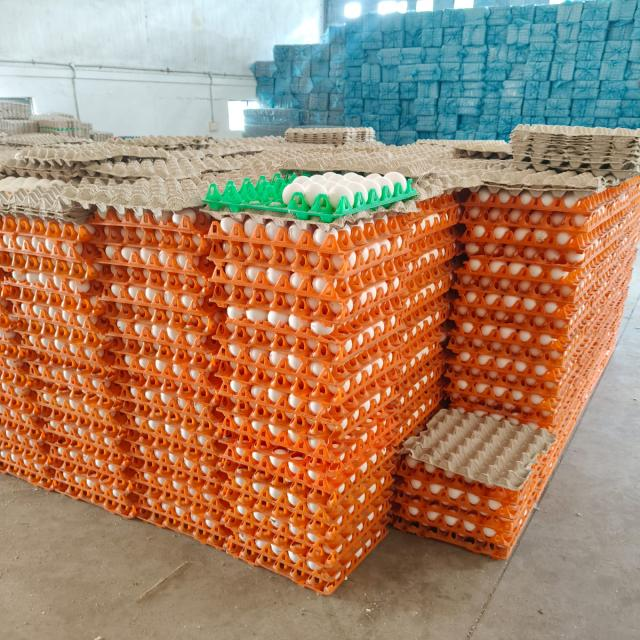egg_tray: (394, 362, 604, 558), (450, 234, 636, 422), (4, 221, 122, 503), (221, 240, 454, 372), (218, 326, 445, 460), (211, 211, 457, 332), (221, 416, 395, 586), (219, 272, 450, 395), (447, 286, 625, 426), (457, 216, 637, 351), (212, 218, 406, 341), (394, 409, 559, 552), (453, 247, 633, 375), (119, 338, 225, 547), (99, 210, 221, 382), (220, 414, 397, 532), (225, 465, 392, 590), (218, 313, 399, 426), (454, 226, 635, 336), (60, 398, 205, 532), (447, 320, 619, 432), (218, 325, 399, 426), (461, 198, 637, 301), (217, 367, 397, 466), (125, 373, 226, 547), (218, 327, 399, 424), (130, 365, 223, 546), (219, 371, 394, 467), (123, 371, 225, 534), (212, 212, 454, 279), (462, 182, 638, 273), (394, 456, 550, 558), (222, 448, 393, 540), (123, 373, 224, 528), (461, 209, 636, 298), (225, 501, 389, 594), (458, 217, 637, 302), (13, 389, 134, 514), (0, 218, 105, 358), (221, 408, 402, 488), (221, 412, 397, 494), (462, 184, 639, 265), (463, 185, 637, 267), (225, 499, 389, 582), (227, 266, 403, 343), (462, 194, 639, 268), (38, 373, 134, 506), (96, 210, 212, 319), (541, 312, 621, 466), (461, 179, 639, 248), (220, 314, 384, 388), (458, 232, 627, 302), (222, 403, 399, 469), (453, 265, 618, 335), (225, 523, 387, 594), (97, 214, 206, 318), (116, 339, 220, 446), (204, 172, 417, 223), (103, 256, 218, 349), (463, 210, 625, 276), (533, 348, 610, 485), (209, 217, 381, 278), (108, 305, 223, 396), (401, 196, 460, 365), (547, 306, 623, 437), (396, 455, 538, 524), (394, 479, 538, 547), (47, 412, 138, 516), (3, 282, 114, 367), (15, 302, 118, 393), (124, 372, 219, 470), (547, 319, 619, 441), (447, 350, 570, 421), (461, 200, 626, 252), (126, 396, 225, 481), (135, 458, 228, 548), (14, 289, 109, 376), (110, 307, 217, 383), (395, 290, 451, 434), (14, 290, 115, 368), (29, 343, 123, 426), (92, 209, 210, 274), (0, 346, 54, 488), (123, 372, 221, 449), (396, 291, 451, 428), (136, 467, 229, 548), (135, 467, 228, 548), (4, 271, 108, 343), (129, 404, 225, 482), (15, 302, 114, 377), (18, 289, 115, 365), (566, 260, 632, 370), (95, 210, 210, 272), (38, 367, 133, 442), (453, 304, 582, 356), (447, 333, 577, 384), (576, 234, 639, 339), (448, 350, 566, 406), (465, 178, 638, 216), (109, 305, 223, 362), (0, 217, 99, 281), (399, 196, 463, 294), (30, 361, 123, 425), (52, 448, 138, 517), (403, 228, 461, 330), (387, 196, 461, 275), (399, 259, 456, 361), (3, 258, 103, 316), (398, 259, 456, 357), (53, 450, 139, 516), (402, 240, 461, 336), (398, 260, 456, 356), (104, 269, 215, 319), (401, 230, 460, 323), (114, 338, 217, 391), (0, 389, 55, 488), (401, 240, 460, 330), (393, 293, 451, 382), (394, 296, 450, 388), (135, 494, 228, 549), (398, 272, 453, 361), (282, 171, 407, 209), (394, 351, 446, 436), (514, 145, 638, 179), (0, 269, 47, 358), (405, 227, 461, 299), (513, 147, 638, 179), (5, 250, 100, 292), (396, 195, 461, 256), (0, 416, 55, 488), (511, 125, 637, 152), (0, 336, 36, 425), (0, 158, 79, 198), (396, 379, 447, 439), (0, 435, 55, 490), (396, 382, 446, 439), (0, 342, 36, 420), (7, 146, 86, 181), (0, 345, 36, 420), (403, 194, 461, 236), (0, 357, 36, 421), (0, 331, 35, 396), (0, 268, 23, 356), (0, 270, 22, 358), (0, 344, 33, 397), (403, 269, 449, 306), (0, 176, 66, 194), (606, 176, 639, 206), (459, 283, 493, 301), (489, 294, 534, 306), (149, 318, 172, 340), (536, 298, 564, 314), (197, 454, 217, 474), (345, 330, 365, 350), (490, 413, 525, 424), (6, 450, 20, 474), (380, 321, 399, 337), (264, 431, 284, 446), (429, 249, 447, 264), (63, 442, 77, 461), (327, 336, 339, 357), (535, 456, 549, 471), (162, 411, 179, 423), (261, 521, 279, 532), (132, 389, 146, 401), (112, 500, 126, 512), (68, 297, 86, 306), (114, 481, 126, 493), (625, 216, 635, 230), (435, 308, 445, 322), (518, 308, 533, 317), (188, 474, 204, 482), (581, 305, 591, 317), (231, 379, 240, 392), (470, 225, 483, 234), (309, 438, 320, 448), (132, 392, 144, 401), (194, 500, 203, 512), (130, 246, 147, 252), (573, 342, 584, 351), (238, 404, 249, 413), (521, 244, 535, 251), (519, 280, 530, 288), (149, 409, 160, 417), (69, 430, 78, 439), (225, 378, 234, 387), (65, 486, 75, 494), (74, 468, 82, 478), (12, 230, 22, 238), (253, 515, 261, 525), (447, 410, 460, 416), (403, 365, 410, 376), (270, 392, 278, 401), (354, 372, 360, 384), (238, 364, 247, 372), (252, 339, 259, 349), (599, 340, 606, 350), (526, 422, 540, 427), (278, 374, 285, 384), (529, 358, 537, 366), (518, 365, 526, 373), (60, 241, 69, 248), (290, 525, 297, 534), (177, 328, 183, 338), (89, 281, 97, 288), (261, 372, 268, 380), (210, 450, 215, 461), (41, 314, 50, 320), (374, 412, 383, 418), (179, 320, 188, 326), (103, 348, 110, 355), (380, 505, 387, 512), (274, 456, 281, 463), (443, 280, 450, 287), (334, 372, 340, 380), (332, 302, 340, 308), (157, 400, 165, 406), (533, 394, 541, 400), (85, 338, 93, 344), (522, 227, 530, 233), (556, 232, 565, 237), (513, 227, 522, 232), (496, 226, 511, 229), (212, 504, 219, 510), (261, 372, 267, 379), (270, 280, 277, 286), (112, 214, 119, 220), (410, 510, 417, 516), (569, 358, 574, 366), (513, 314, 518, 322), (509, 418, 517, 423), (184, 480, 192, 485), (47, 297, 57, 301), (267, 565, 275, 570), (530, 236, 535, 244), (282, 415, 286, 425), (287, 337, 292, 345), (513, 227, 521, 232), (309, 536, 315, 542), (33, 311, 39, 317), (255, 350, 261, 356), (327, 398, 336, 402), (321, 424, 330, 428), (508, 416, 517, 420), (33, 414, 39, 420), (52, 448, 61, 452), (470, 406, 477, 411), (207, 349, 214, 354), (3, 423, 10, 428), (55, 395, 60, 402), (172, 396, 177, 403), (545, 470, 550, 477), (456, 400, 463, 405), (271, 416, 278, 421), (60, 370, 68, 374), (492, 414, 500, 418), (395, 310, 399, 318), (413, 298, 419, 303), (203, 359, 209, 364), (238, 406, 243, 412), (207, 514, 213, 519), (577, 236, 582, 242), (499, 309, 506, 313), (122, 393, 126, 400), (17, 321, 21, 328), (132, 374, 139, 378), (386, 491, 390, 498), (372, 331, 376, 338), (312, 372, 321, 375), (230, 394, 235, 399), (232, 353, 237, 358), (575, 235, 580, 240), (33, 423, 38, 428), (589, 358, 593, 364), (186, 233, 192, 237), (443, 280, 449, 284), (312, 338, 316, 344), (590, 298, 596, 302), (496, 227, 507, 229), (506, 254, 513, 257), (447, 489, 454, 492), (482, 309, 486, 314), (200, 351, 205, 355), (18, 272, 23, 276), (425, 262, 429, 267), (41, 241, 45, 246), (358, 410, 363, 414), (181, 374, 186, 378), (198, 523, 202, 528), (32, 371, 37, 375), (95, 305, 99, 310), (3, 301, 7, 306), (310, 537, 314, 542), (294, 322, 299, 326), (310, 321, 312, 330), (385, 516, 388, 522), (625, 273, 628, 279), (102, 246, 108, 249), (65, 473, 68, 479), (115, 478, 121, 481), (584, 362, 588, 366), (383, 313, 387, 317), (51, 196, 55, 200), (605, 202, 609, 206), (129, 221, 133, 225), (383, 233, 387, 237), (373, 364, 377, 368), (289, 380, 294, 383), (461, 411, 466, 414), (528, 373, 533, 376), (298, 365, 301, 370), (292, 356, 297, 359), (551, 213, 556, 216), (316, 290, 321, 293), (531, 238, 534, 243), (512, 266, 516, 269), (252, 358, 256, 361), (274, 312, 278, 315), (341, 302, 343, 308), (505, 254, 511, 256), (530, 423, 534, 426), (626, 269, 629, 273), (231, 307, 235, 310), (336, 302, 339, 306), (430, 272, 433, 276), (148, 392, 151, 396), (207, 532, 211, 535), (201, 523, 203, 529), (59, 452, 62, 456), (605, 238, 608, 242), (7, 430, 11, 433), (577, 212, 581, 215), (331, 497, 334, 501), (273, 425, 276, 429), (34, 376, 37, 380), (355, 344, 361, 346), (462, 278, 465, 282), (257, 354, 262, 356), (267, 340, 272, 342), (556, 329, 558, 334), (458, 309, 460, 314), (511, 345, 516, 347), (234, 310, 236, 315), (387, 310, 392, 312), (220, 302, 225, 304), (285, 459, 290, 461), (274, 375, 276, 380), (309, 532, 314, 534), (321, 587, 324, 590), (362, 352, 365, 355), (272, 398, 275, 401), (249, 310, 252, 313), (193, 442, 196, 445), (201, 300, 204, 303), (273, 281, 276, 284), (403, 370, 406, 373), (323, 368, 326, 371), (315, 285, 318, 288), (585, 199, 589, 201), (607, 340, 609, 344), (80, 150, 84, 152), (180, 371, 182, 375), (283, 389, 287, 391), (182, 458, 186, 460), (206, 492, 210, 494), (245, 512, 249, 514), (565, 242, 567, 246), (558, 213, 565, 214), (492, 196, 495, 198), (461, 318, 463, 321), (221, 354, 223, 357), (518, 366, 521, 368), (539, 340, 541, 343), (486, 237, 489, 239), (530, 265, 536, 266), (180, 375, 183, 377), (117, 320, 120, 322), (74, 300, 77, 302), (434, 320, 437, 322), (585, 391, 587, 394), (331, 400, 334, 402), (381, 307, 383, 310), (256, 388, 259, 390), (381, 325, 383, 328), (200, 442, 203, 444), (149, 397, 151, 400), (440, 422, 442, 425), (439, 417, 441, 420), (34, 240, 36, 243), (252, 411, 258, 412), (266, 269, 269, 271), (19, 221, 22, 223), (130, 214, 132, 217), (607, 190, 613, 191), (16, 426, 18, 429), (544, 231, 547, 233), (366, 334, 369, 336), (351, 354, 354, 356), (19, 274, 22, 276), (268, 345, 273, 346), (272, 362, 274, 364), (251, 334, 252, 338), (331, 324, 333, 326), (458, 306, 460, 308), (597, 194, 601, 195), (172, 460, 174, 462), (158, 442, 160, 444), (369, 360, 371, 362), (26, 412, 28, 414), (450, 244, 452, 246), (5, 160, 7, 162), (118, 372, 119, 376), (418, 348, 420, 350), (127, 212, 129, 214), (389, 245, 390, 249), (47, 280, 49, 282), (634, 189, 636, 191), (410, 300, 412, 302), (292, 462, 294, 464), (279, 461, 281, 463), (494, 286, 496, 288), (441, 490, 443, 492), (32, 282, 34, 284), (283, 449, 285, 451), (282, 376, 284, 378), (403, 370, 405, 372), (462, 304, 463, 307), (151, 326, 152, 329), (201, 345, 202, 348), (466, 409, 469, 410), (489, 553, 492, 554), (532, 383, 535, 384), (514, 390, 517, 391), (131, 391, 132, 394), (277, 571, 280, 572), (435, 234, 438, 235), (574, 242, 577, 243), (98, 266, 99, 268), (230, 394, 231, 396), (429, 309, 431, 310), (540, 316, 542, 317), (459, 303, 461, 304), (222, 338, 224, 339), (56, 180, 58, 181), (137, 322, 138, 324), (212, 360, 214, 361), (189, 332, 191, 333), (191, 333, 193, 334), (244, 403, 246, 404), (411, 300, 413, 301), (149, 391, 151, 392), (472, 427, 474, 428), (73, 249, 74, 251), (455, 369, 457, 370), (544, 238, 546, 239), (221, 442, 222, 444), (537, 372, 538, 374), (183, 417, 184, 419), (71, 407, 72, 409), (475, 404, 476, 406), (274, 458, 276, 459), (261, 356, 263, 357), (467, 238, 469, 239), (443, 487, 445, 488), (374, 403, 376, 404), (276, 425, 278, 426), (230, 300, 232, 301), (274, 274, 275, 276), (111, 465, 113, 466), (65, 376, 66, 377), (297, 358, 298, 359), (230, 358, 231, 359), (316, 365, 317, 366), (507, 322, 508, 323), (481, 283, 482, 284), (389, 322, 390, 323), (502, 274, 503, 275), (60, 416, 61, 417), (196, 354, 197, 355), (343, 389, 344, 390), (32, 183, 33, 184), (127, 253, 128, 254), (112, 509, 113, 510), (38, 387, 39, 388), (194, 481, 195, 482), (412, 365, 413, 366), (417, 296, 418, 297), (238, 383, 239, 384), (236, 377, 237, 378), (351, 342, 352, 343), (278, 421, 279, 422), (326, 329, 327, 330), (252, 318, 253, 319), (232, 347, 233, 348), (31, 312, 32, 313), (347, 210, 348, 211), (561, 274, 561, 274), (254, 532, 254, 532), (258, 343, 258, 344), (507, 321, 508, 321), (223, 350, 223, 350), (243, 336, 243, 337), (412, 327, 412, 328), (538, 310, 540, 310), (463, 307, 463, 310), (87, 148, 87, 148), (492, 261, 494, 261), (161, 383, 161, 383), (134, 327, 134, 328), (214, 356, 214, 358), (411, 410, 412, 410), (272, 461, 272, 461), (243, 412, 245, 412), (247, 408, 248, 408), (307, 390, 308, 390), (232, 390, 234, 390), (341, 332, 343, 332), (338, 330, 339, 330), (423, 318, 423, 320), (378, 314, 379, 314), (238, 314, 238, 314), (294, 401, 296, 401), (494, 556, 495, 556), (38, 250, 39, 250), (634, 256, 634, 256), (207, 461, 208, 461), (527, 232, 528, 232), (498, 381, 501, 381), (188, 490, 190, 490), (174, 481, 174, 482), (101, 475, 101, 477), (83, 310, 83, 310), (29, 296, 30, 296), (14, 288, 19, 288), (112, 472, 115, 472), (116, 448, 116, 448), (412, 308, 412, 308), (207, 494, 211, 494), (543, 425, 543, 425), (167, 353, 167, 354), (112, 310, 113, 310), (170, 216, 170, 219), (210, 501, 210, 502), (492, 410, 492, 410), (436, 332, 437, 332), (414, 314, 414, 314), (412, 308, 413, 308), (412, 364, 412, 366), (276, 381, 276, 382), (221, 376, 221, 376), (493, 283, 494, 283), (534, 232, 537, 232), (16, 332, 17, 332), (514, 492, 520, 492), (227, 403, 228, 403), (280, 532, 282, 532), (250, 514, 250, 514), (285, 380, 285, 381), (338, 292, 339, 292), (334, 358, 334, 359), (36, 316, 36, 316), (544, 232, 546, 232)
